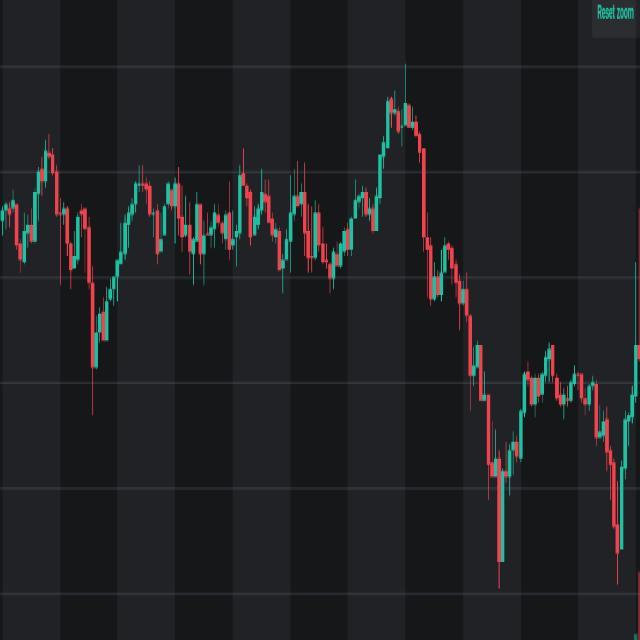Resistance-Emerging: (115, 156, 371, 290)
Resistance-breakout: (286, 60, 417, 279)
Support-breakout: (359, 56, 622, 604)
